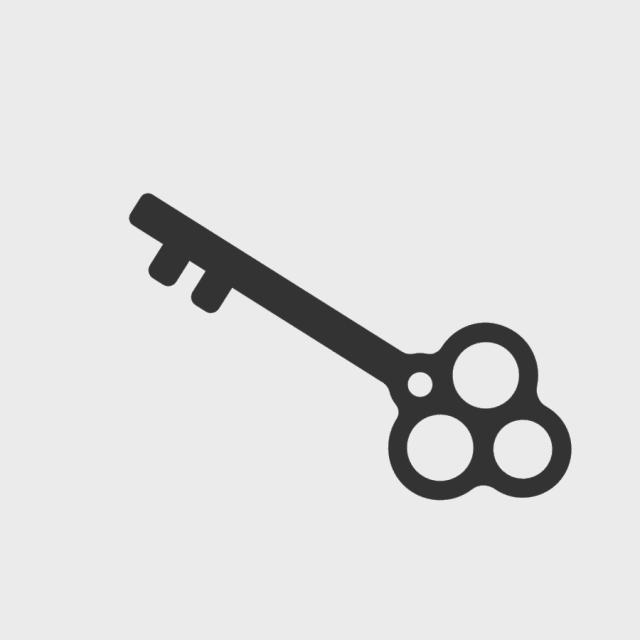key: (119, 188, 579, 510)
